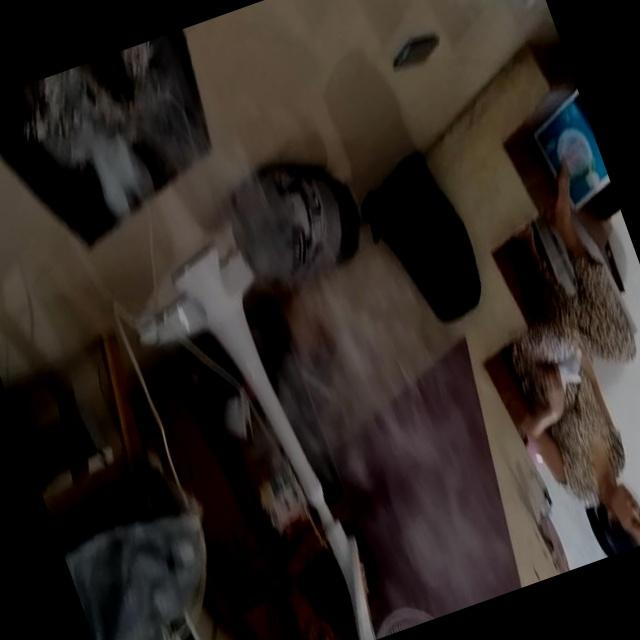smoke: (36, 84, 212, 262)
